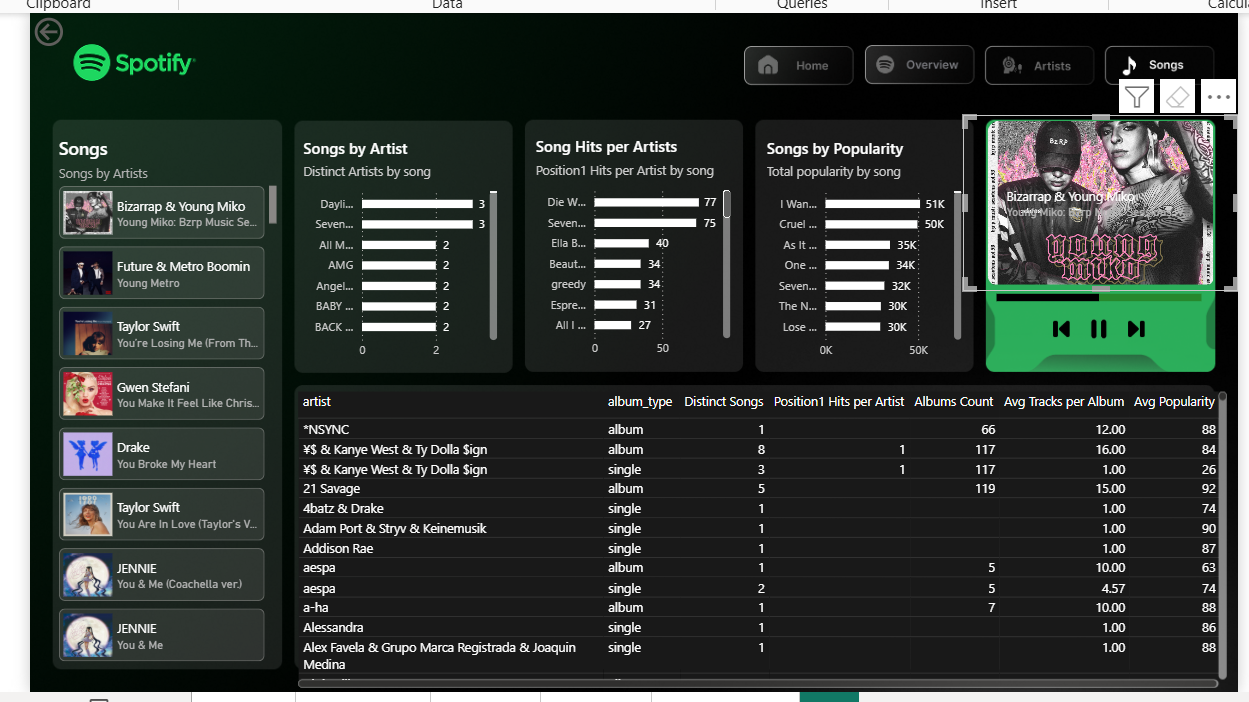

The page's visual inventory and layout, read from the dashboard file:
{"tool":"powerbi","page":{"name":"Songs","canvas":[1280,720],"ordinal":3},"visuals":[{"type":"actionButton","box":[759.3,33.9,114.5,39.8],"z":0},{"type":"actionButton","box":[1016.9,33.9,100.2,39.8],"z":1000},{"type":"actionButton","box":[1141,33.9,111.3,39.8],"z":2000},{"type":"actionButton","box":[888.1,38.7,114.5,36.6],"z":3000},{"type":"advancedSlicerVisual","title":"Songs","fields":{"Values":["Top-50-World.song"]},"box":[25.4,130.4,241.8,564.7],"z":4000},{"type":"advancedSlicerVisual","title":"Songs","fields":{"Values":["Top-50-World.song"]},"box":[988.9,108.2,291.1,186.1],"z":5000},{"type":"hundredPercentStackedBarChart","fields":{"Y":["_Measures.Avg Popularity","Avg(Top-50-World.popularity)"]},"box":[1019.6,262.5,227.5,71.6],"z":6000},{"type":"image","box":[1153.7,319.2,39.8,30.2],"z":7000},{"type":"image","box":[1074.2,319.2,39.8,30.2],"z":8000},{"type":"image","box":[1114,319.2,39.8,30.2],"z":9000},{"type":"tableEx","fields":{"Values":["Top-50-World.artist","Top-50-World.album_type","_Measures.Distinct Songs","_Measures.Position1 Hits per Artist","_Measures.Albums Count","_Measures.Avg Tracks per Album","_Measures.Avg Popularity"]},"box":[278.4,396.1,995.7,324.5],"z":10000},{"type":"clusteredBarChart","title":"Songs by Artist","fields":{"Y":["_Measures.Distinct Artists"],"Category":["Top-50-World.song"]},"box":[285.3,131.3,215.4,243.8],"z":11000},{"type":"clusteredBarChart","title":"Song Hits per Artists","fields":{"Y":["_Measures.Position1 Hits per Artist"],"Category":["Top-50-World.song"]},"box":[531.3,130.4,216.3,243.4],"z":12000},{"type":"clusteredBarChart","title":"Songs by Popularity","fields":{"Y":["Sum(Top-50-World.popularity)"],"Category":["Top-50-World.song"]},"box":[776.2,132,216.3,243.4],"z":13000},{"type":"actionButton","box":[0,0,100,40],"z":14000}]}

Visuals, with their boxes on the page's 1280x720 design canvas (x1, y1, x2, y2). These are canvas units, not pixel positions in the 1249x702 screenshot, which may show the page scaled, cropped or inside an application window:
actionButton: (x1=759, y1=34, x2=874, y2=74)
actionButton: (x1=1017, y1=34, x2=1117, y2=74)
actionButton: (x1=1141, y1=34, x2=1252, y2=74)
actionButton: (x1=888, y1=39, x2=1003, y2=75)
"Songs" advancedSlicerVisual: (x1=25, y1=130, x2=267, y2=695)
"Songs" advancedSlicerVisual: (x1=989, y1=108, x2=1280, y2=294)
hundredPercentStackedBarChart - _Measures.Avg Popularity x Avg(Top-50-World.popularity): (x1=1020, y1=262, x2=1247, y2=334)
image: (x1=1154, y1=319, x2=1194, y2=349)
image: (x1=1074, y1=319, x2=1114, y2=349)
image: (x1=1114, y1=319, x2=1154, y2=349)
tableEx - Top-50-World.artist x Top-50-World.album_type: (x1=278, y1=396, x2=1274, y2=721)
"Songs by Artist" clusteredBarChart: (x1=285, y1=131, x2=501, y2=375)
"Song Hits per Artists" clusteredBarChart: (x1=531, y1=130, x2=748, y2=374)
"Songs by Popularity" clusteredBarChart: (x1=776, y1=132, x2=992, y2=375)
actionButton: (x1=0, y1=0, x2=100, y2=40)
